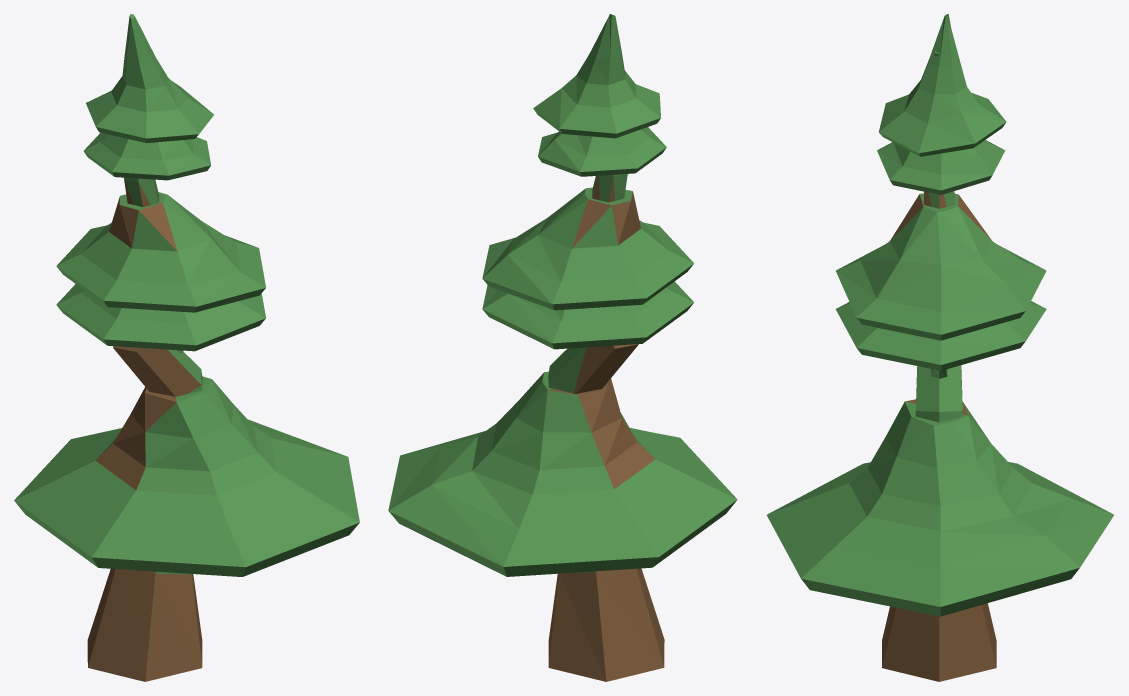
The model's file is tree3d-116.glb.
3 views of the same model, side by side, from view 1: azimuth 30°, elevation 25°; view 2: azimuth 150°, elevation 25°; view 3: azimuth 270°, elevation 25° (orthographic).
Visible parts, largest first — view 1: tree3d-116; view 2: tree3d-116; view 3: tree3d-116.
Part boxes in pixels (x1,y1,x2,y2): tree3d-116: (14,14,359,681); tree3d-116: (388,14,737,681); tree3d-116: (766,14,1113,681).
Size of the model in its own units: 0.4839 by 1 by 0.4964.
